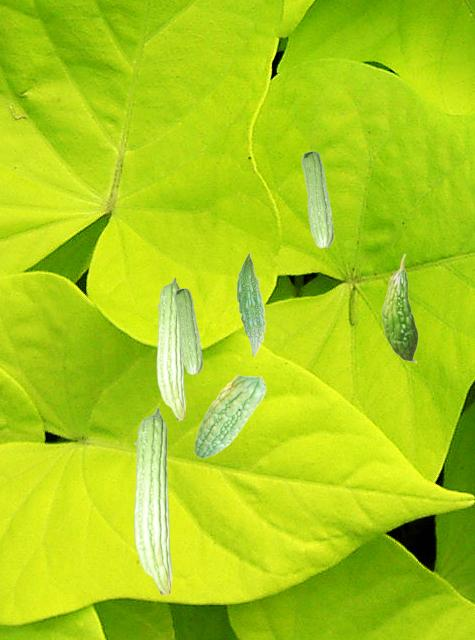ampalaya: (133, 406, 172, 596), (193, 374, 266, 459), (156, 277, 186, 421), (380, 253, 418, 363), (301, 150, 334, 248), (236, 252, 266, 357), (173, 287, 203, 375)
